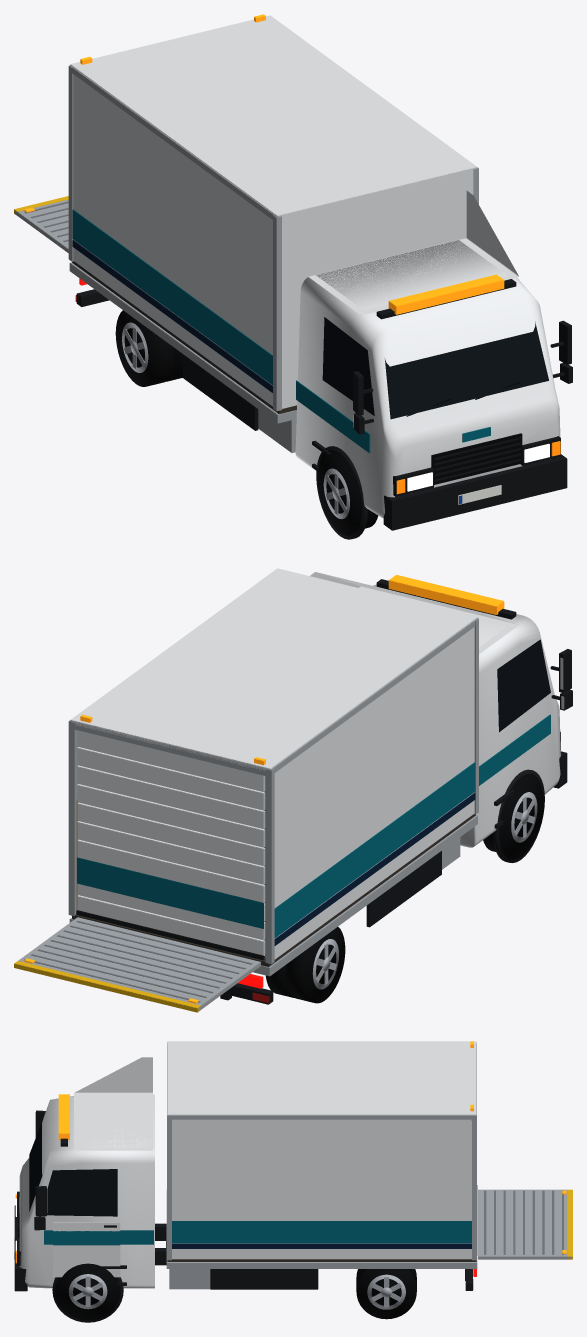
Rendered from deliver_truck.glb.
3 renders of one model, top to bottom at view 1: azimuth 30°, elevation 25°; view 2: azimuth 150°, elevation 25°; view 3: azimuth 270°, elevation 25°, orthographic. The views are drawn at different scales.
Parts seen in each view (by area): view 1: Van_Paint, loft, Van_Trim, Van_Glass, Van_Teal, PC_Galv, Van_Tire.003, PC_Black, Van_BeaconMat, Van_Tire.001, Van_Navy, PC_Galv.001 (+3 smaller); view 2: Van_Paint, Van_Paint.001, PC_Galv, PC_Galv.001, loft, Van_Teal, Van_Teal.001, Van_Trim, PC_Steel, Van_Glass, Van_Tire.003, Van_BeaconMat (+6 smaller); view 3: Van_Paint, loft, Van_Teal, PC_Galv, PC_Galv.001, Van_Trim, Van_Glass, Van_Paint.002, Van_Navy, Van_Tire.002, Van_Tire, PC_Steel (+9 smaller).
Part boxes in pixels (x1,y1,x2,y2): Van_Paint: (70, 15, 518, 408); loft: (295, 240, 560, 518); Van_Trim: (76, 279, 572, 530); Van_Glass: (322, 317, 548, 419); Van_Teal: (72, 209, 490, 453); PC_Galv: (68, 65, 478, 452); Van_Tire.003: (115, 310, 182, 386); PC_Black: (406, 381, 522, 484); Van_BeaconMat: (80, 14, 504, 314); Van_Tire.001: (317, 453, 378, 532); Van_Navy: (72, 240, 272, 392); PC_Galv.001: (15, 199, 68, 252); Van_Paint: (70, 568, 518, 959); Van_Paint.001: (77, 730, 265, 958); PC_Galv: (68, 618, 478, 976); PC_Galv.001: (18, 917, 260, 1010); loft: (373, 584, 560, 847); Van_Teal: (274, 714, 550, 937); Van_Teal.001: (77, 857, 263, 928); Van_Trim: (220, 579, 572, 1004); PC_Steel: (24, 921, 252, 1002); Van_Glass: (497, 639, 550, 732); Van_Tire.003: (265, 927, 345, 1003); Van_BeaconMat: (80, 575, 504, 765); Van_Paint: (74, 1041, 476, 1259); loft: (19, 1094, 154, 1288); Van_Teal: (19, 1197, 471, 1244); PC_Galv: (166, 1042, 477, 1289); PC_Galv.001: (478, 1189, 571, 1259); Van_Trim: (14, 1110, 472, 1291); Van_Glass: (29, 1120, 117, 1216); Van_Paint.002: (53, 1222, 120, 1277); Van_Navy: (172, 1243, 471, 1248); Van_Tire.002: (356, 1269, 416, 1319); Van_Tire: (58, 1263, 118, 1318); PC_Steel: (484, 1190, 563, 1254).
Size of the model in its own units: 2.56 by 3.3 by 7.77.
